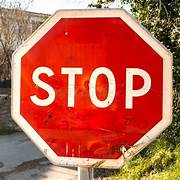stop: (12, 10, 173, 168)
